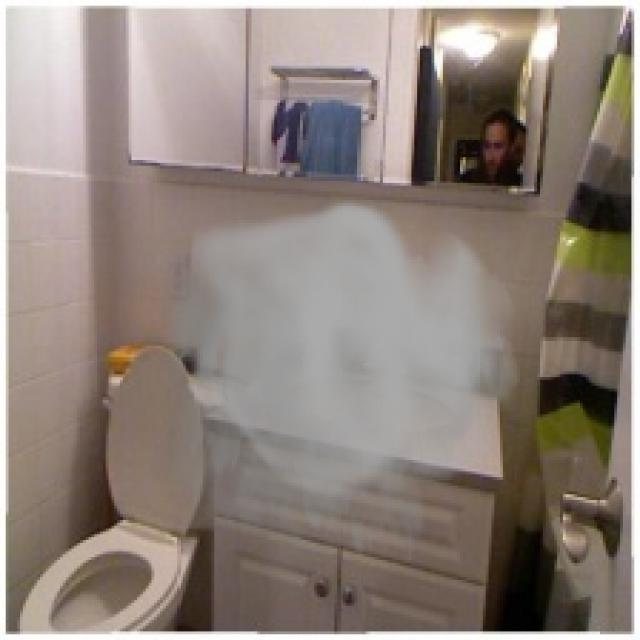smoke: (140, 194, 520, 603)
